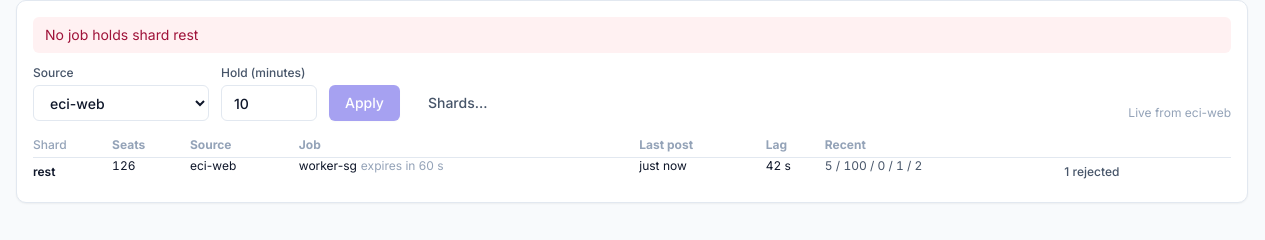
Test: FeedPanel › shows alerts, shard status and rejected reasons
The width and height of the screenshot is (1265, 240).
expect the message reads "No job holds shard rest": met, box [45, 26, 198, 43]
expect the text "worker-sg" is shown: met, box [299, 158, 357, 173]
Click the button "1 rejected" at (1092, 172), box [1054, 158, 1129, 186]
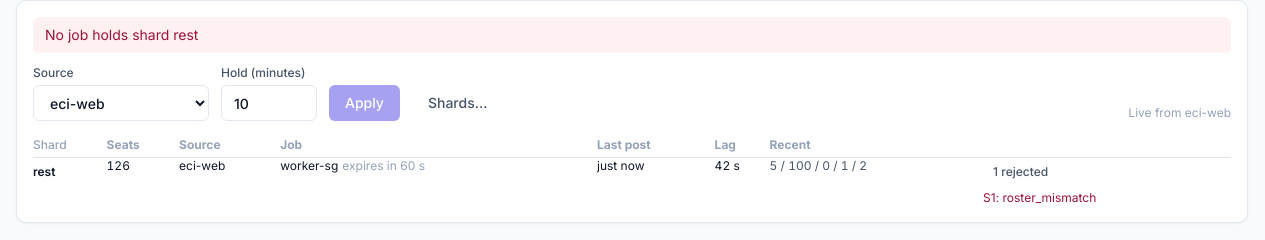
expect the list item "S1: roster_mismatch" is shown: met, box [983, 190, 1096, 205]
